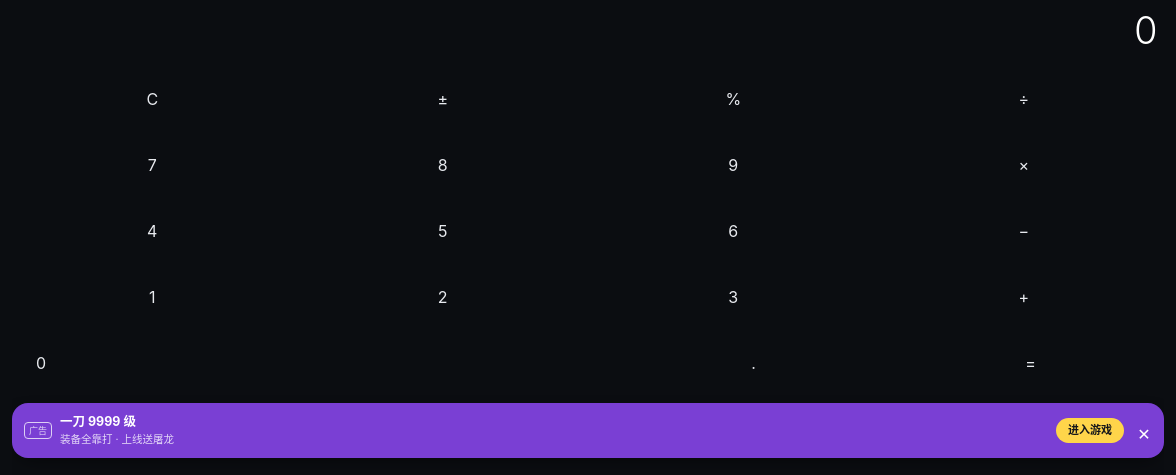
Scenario: CalculatorApp 计算器功能测试 › 当风暴广告开启时，底部广告不遮挡等于号按键
Check: the button named "等于" is shown, box [897,335,1164,391]
Click the button named "关闭计算器底部广告" at (1144, 430), box [1136,422,1152,438]
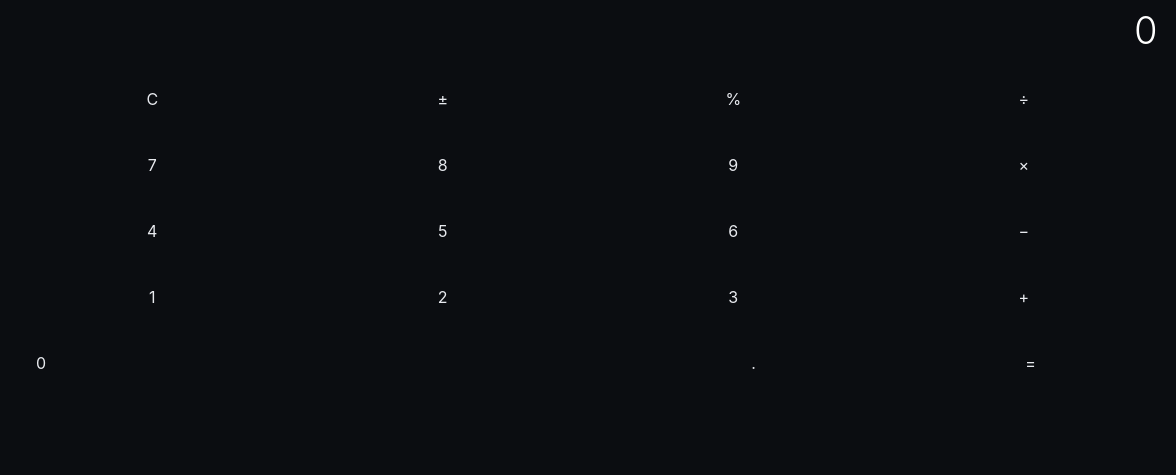
Check: the text "一刀 9999 级" is gone
